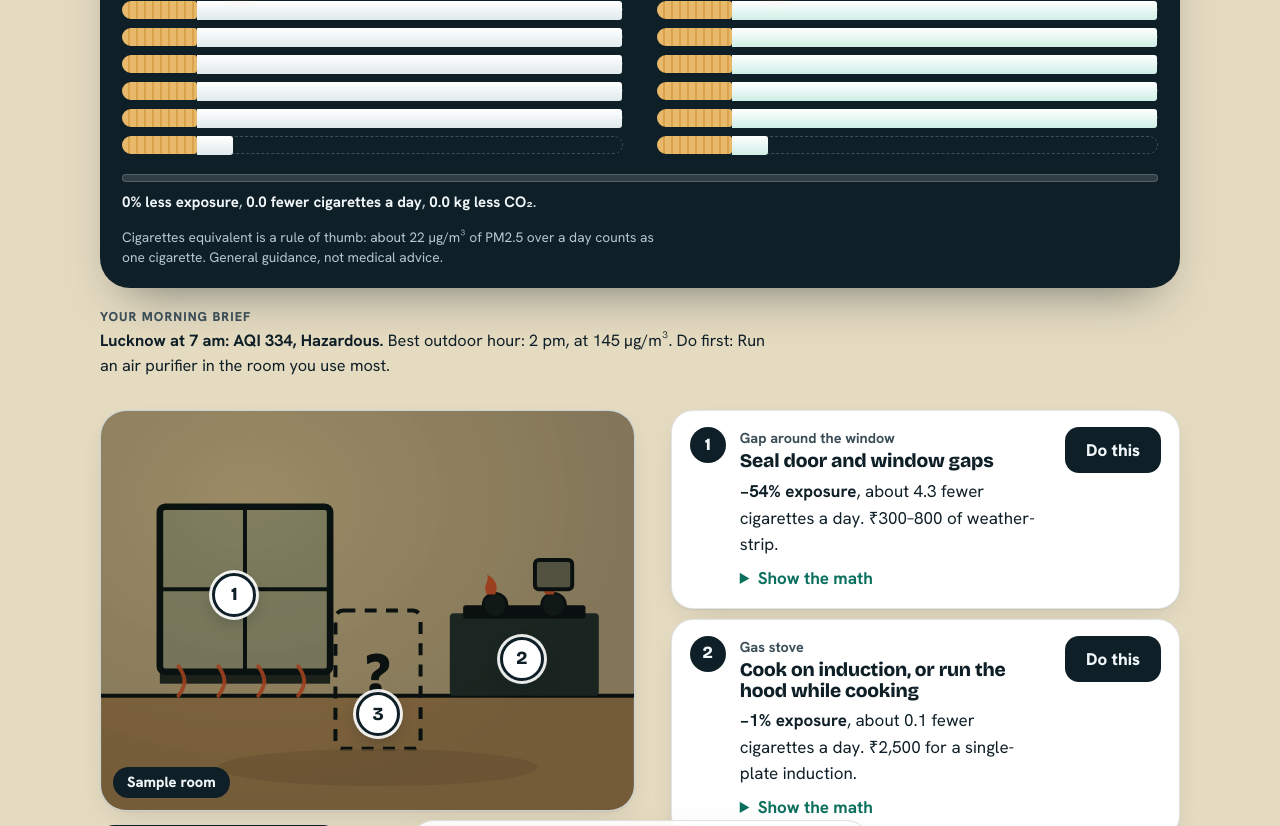
AirWise home › the row button and the hotspot stay in sync, and either one removes the fix again
(page scrolled)
Step 1. Click the button "Do this" in the row of "Gap around the window" → {"x": 1113, "y": 450}, box [1065,427,1161,473]
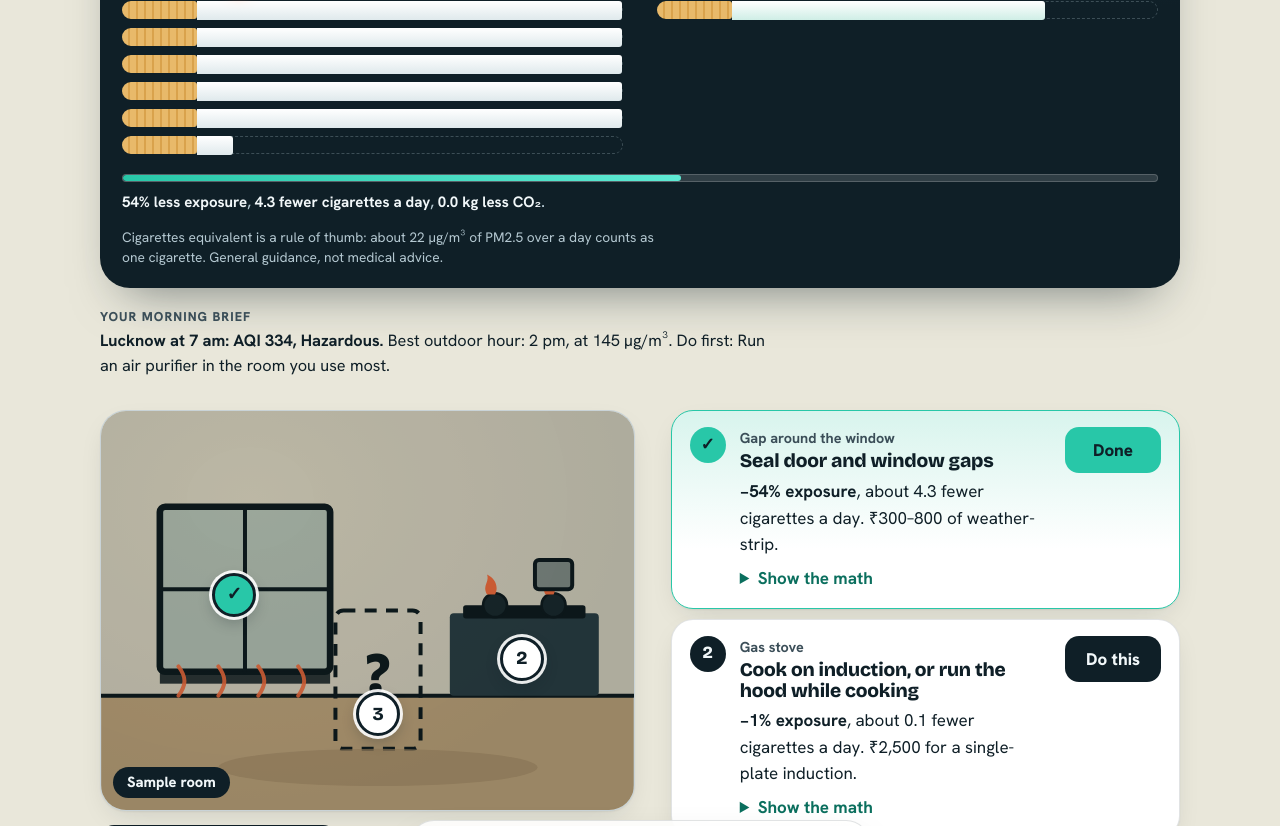
expect the button named "Fix 1:" is pressed: met
Step 2. Click the button named "Fix 1:" → {"x": 234, "y": 595}, box [212,573,256,617]
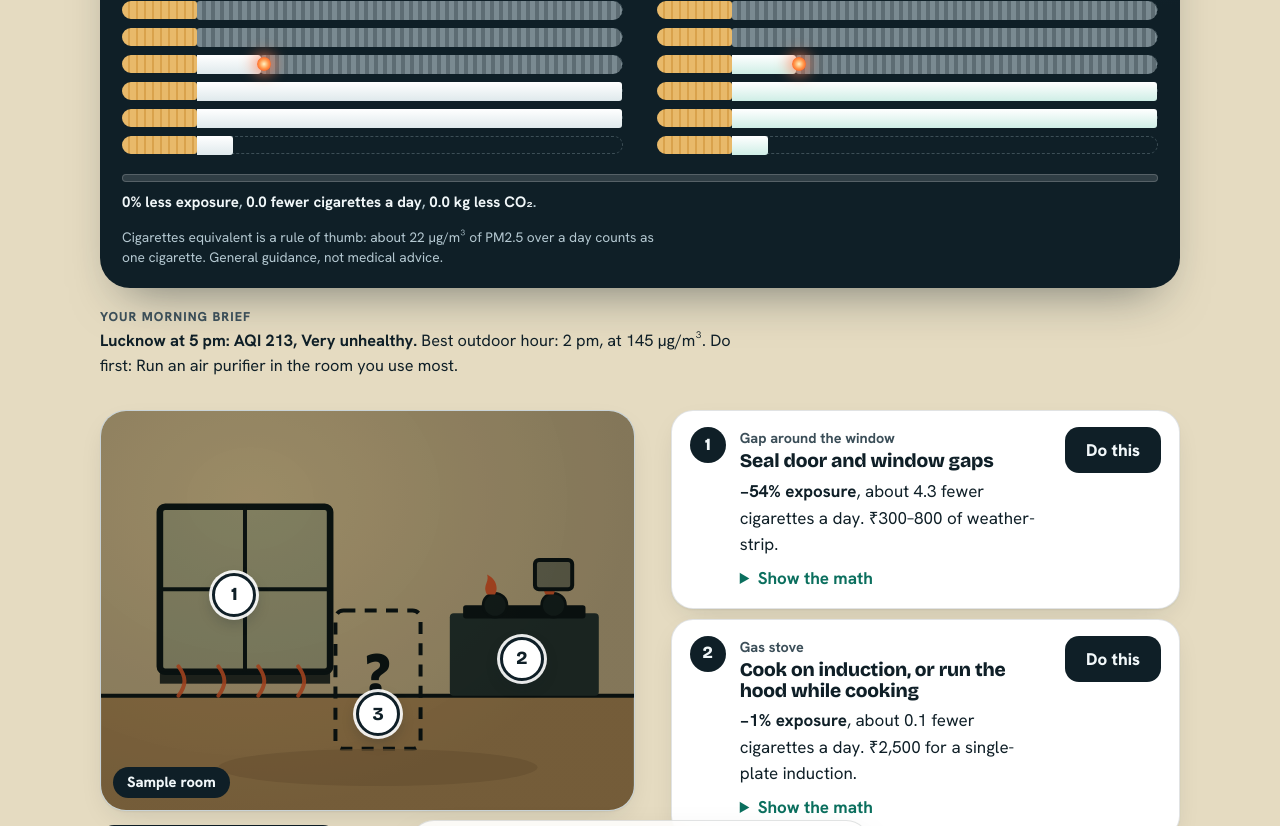
expect the button "Done" is gone: met
